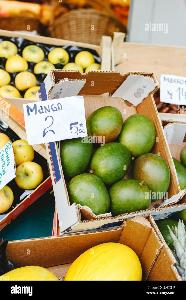apple: (0, 42, 110, 104)
melon: (45, 99, 181, 220)
